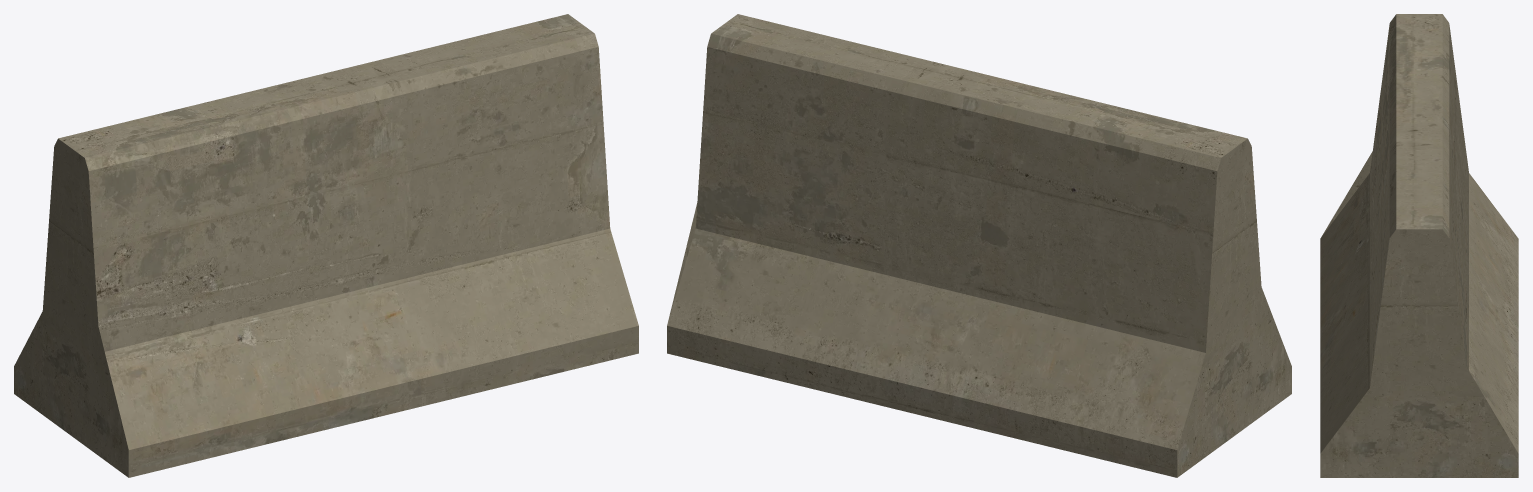
The model's file is barrier.glb.
3 views of the same model, side by side, from view 1: azimuth 30°, elevation 25°; view 2: azimuth 150°, elevation 25°; view 3: azimuth 270°, elevation 25° (orthographic). The views are drawn at different scales.
Visible parts, largest first — view 1: barrier_jersey; view 2: barrier_jersey; view 3: barrier_jersey.
Boxes of the visible parts, x1,y1,x2,y2 form: barrier_jersey: [14, 14, 638, 477]; barrier_jersey: [667, 14, 1291, 477]; barrier_jersey: [1320, 14, 1518, 477].
Bounding box in the file's own units: 1.54 × 0.83 × 0.6.
Materials: 1 (1 with a texture image).
